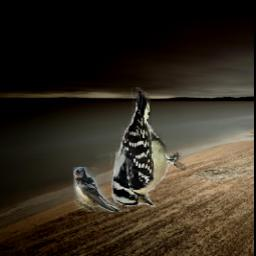Swallow: (73, 168, 130, 213)
Woodpecker: (109, 87, 186, 208)
